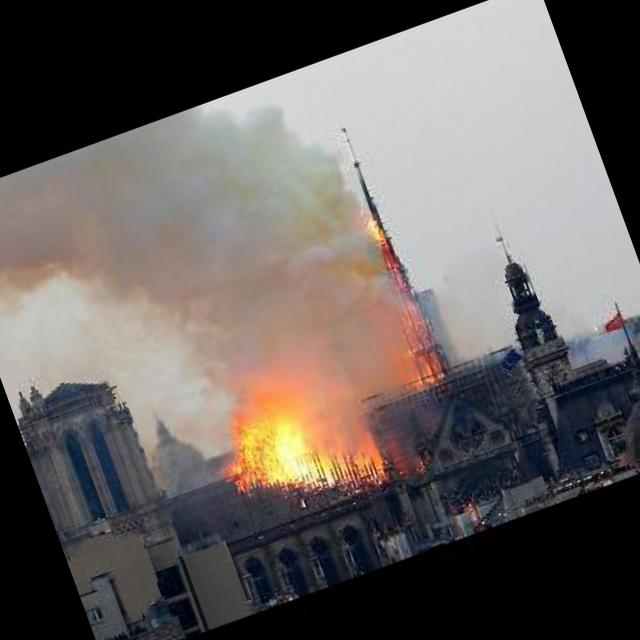fire: (205, 364, 423, 530), (352, 198, 466, 386)
smoke: (77, 83, 396, 448)
